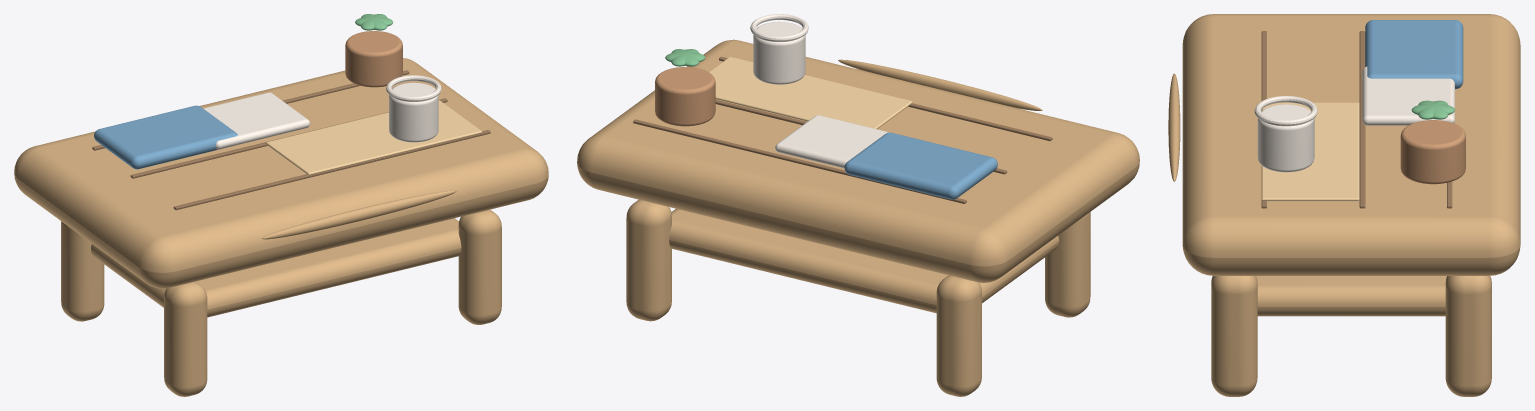
File: 目标图高级原木茶几.fbx
3 renders of one model, left to right at view 1: azimuth 30°, elevation 25°; view 2: azimuth 150°, elevation 25°; view 3: azimuth 270°, elevation 25°, orthographic. The views are drawn at different scales.
Visible parts, largest first — view 1: 高级原木茶几_v345_厚圆角整块桌面, 高级原木茶几_v345_内收下层板, 高级原木茶几_v345_桌面清漆柔亮面, 高级原木茶几_v345_海蓝封面小书, 高级原木茶几_v345_圆润短桌脚, 高级原木茶几_v345_圆润短桌脚.002, 高级原木茶几_v345_圆润短桌脚.001, 高级原木茶几_v345_奶油书页, 高级原木茶几_v345_陶土小花盆, 高级原木茶几_v345_奶油马克杯, 高级原木茶几_v345_前沿整条圆木包边, 高级原木茶几_v345_桌面低对比木纹 (+2 smaller); view 2: 高级原木茶几_v345_厚圆角整块桌面, 高级原木茶几_v345_内收下层板, 高级原木茶几_v345_桌面清漆柔亮面, 高级原木茶几_v345_海蓝封面小书, 高级原木茶几_v345_圆润短桌脚.001, 高级原木茶几_v345_圆润短桌脚.003, 高级原木茶几_v345_圆润短桌脚, 高级原木茶几_v345_奶油书页, 高级原木茶几_v345_陶土小花盆, 高级原木茶几_v345_奶油马克杯, 高级原木茶几_v345_前沿整条圆木包边, 高级原木茶几_v345_桌面低对比木纹.002 (+3 smaller); view 3: 高级原木茶几_v345_厚圆角整块桌面, 高级原木茶几_v345_内收下层板, 高级原木茶几_v345_桌面清漆柔亮面, 高级原木茶几_v345_海蓝封面小书, 高级原木茶几_v345_圆润短桌脚.002, 高级原木茶几_v345_圆润短桌脚.003, 高级原木茶几_v345_陶土小花盆, 高级原木茶几_v345_奶油书页, 高级原木茶几_v345_奶油马克杯, 高级原木茶几_v345_前沿整条圆木包边, 高级原木茶几_v345_桌面低对比木纹.001, 高级原木茶几_v345_杯口细圈 (+1 smaller).
Part boxes in pixels (x1=…): 高级原木茶几_v345_厚圆角整块桌面: x1=14, y1=58, x2=548, y2=288; 高级原木茶几_v345_内收下层板: x1=91, y1=218, x2=461, y2=317; 高级原木茶几_v345_桌面清漆柔亮面: x1=266, y1=100, x2=482, y2=175; 高级原木茶几_v345_海蓝封面小书: x1=94, y1=105, x2=237, y2=169; 高级原木茶几_v345_圆润短桌脚: x1=164, y1=281, x2=207, y2=396; 高级原木茶几_v345_圆润短桌脚.002: x1=458, y1=209, x2=501, y2=324; 高级原木茶几_v345_圆润短桌脚.001: x1=61, y1=221, x2=104, y2=321; 高级原木茶几_v345_奶油书页: x1=203, y1=92, x2=310, y2=149; 高级原木茶几_v345_陶土小花盆: x1=345, y1=31, x2=402, y2=87; 高级原木茶几_v345_奶油马克杯: x1=389, y1=82, x2=438, y2=142; 高级原木茶几_v345_前沿整条圆木包边: x1=262, y1=190, x2=456, y2=239; 高级原木茶几_v345_桌面低对比木纹: x1=173, y1=130, x2=490, y2=210; 高级原木茶几_v345_厚圆角整块桌面: x1=577, y1=39, x2=1139, y2=282; 高级原木茶几_v345_内收下层板: x1=669, y1=209, x2=1058, y2=313; 高级原木茶几_v345_桌面清漆柔亮面: x1=709, y1=56, x2=912, y2=129; 高级原木茶几_v345_海蓝封面小书: x1=844, y1=132, x2=997, y2=199; 高级原木茶几_v345_圆润短桌脚.001: x1=936, y1=275, x2=981, y2=396; 高级原木茶几_v345_圆润短桌脚.003: x1=626, y1=199, x2=671, y2=321; 高级原木茶几_v345_圆润短桌脚: x1=1045, y1=212, x2=1090, y2=317; 高级原木茶几_v345_奶油书页: x1=775, y1=115, x2=889, y2=168; 高级原木茶几_v345_陶土小花盆: x1=655, y1=67, x2=715, y2=126; 高级原木茶几_v345_奶油马克杯: x1=753, y1=21, x2=805, y2=84; 高级原木茶几_v345_前沿整条圆木包边: x1=838, y1=59, x2=1042, y2=110; 高级原木茶几_v345_桌面低对比木纹.002: x1=633, y1=119, x2=966, y2=203; 高级原木茶几_v345_厚圆角整块桌面: x1=1182, y1=14, x2=1520, y2=275; 高级原木茶几_v345_内收下层板: x1=1256, y1=276, x2=1446, y2=316; 高级原木茶几_v345_桌面清漆柔亮面: x1=1261, y1=102, x2=1359, y2=201; 高级原木茶几_v345_海蓝封面小书: x1=1365, y1=20, x2=1463, y2=89; 高级原木茶几_v345_圆润短桌脚.002: x1=1211, y1=276, x2=1257, y2=396; 高级原木茶几_v345_圆润短桌脚.003: x1=1445, y1=276, x2=1491, y2=396; 高级原木茶几_v345_陶土小花盆: x1=1400, y1=120, x2=1465, y2=184; 高级原木茶几_v345_奶油书页: x1=1362, y1=66, x2=1454, y2=125; 高级原木茶几_v345_奶油马克杯: x1=1257, y1=104, x2=1314, y2=172; 高级原木茶几_v345_前沿整条圆木包边: x1=1168, y1=73, x2=1180, y2=181; 高级原木茶几_v345_桌面低对比木纹.001: x1=1359, y1=31, x2=1365, y2=208; 高级原木茶几_v345_杯口细圈: x1=1254, y1=96, x2=1317, y2=126.
Size of the model in its own units: 98 by 56.15 by 64.6.
